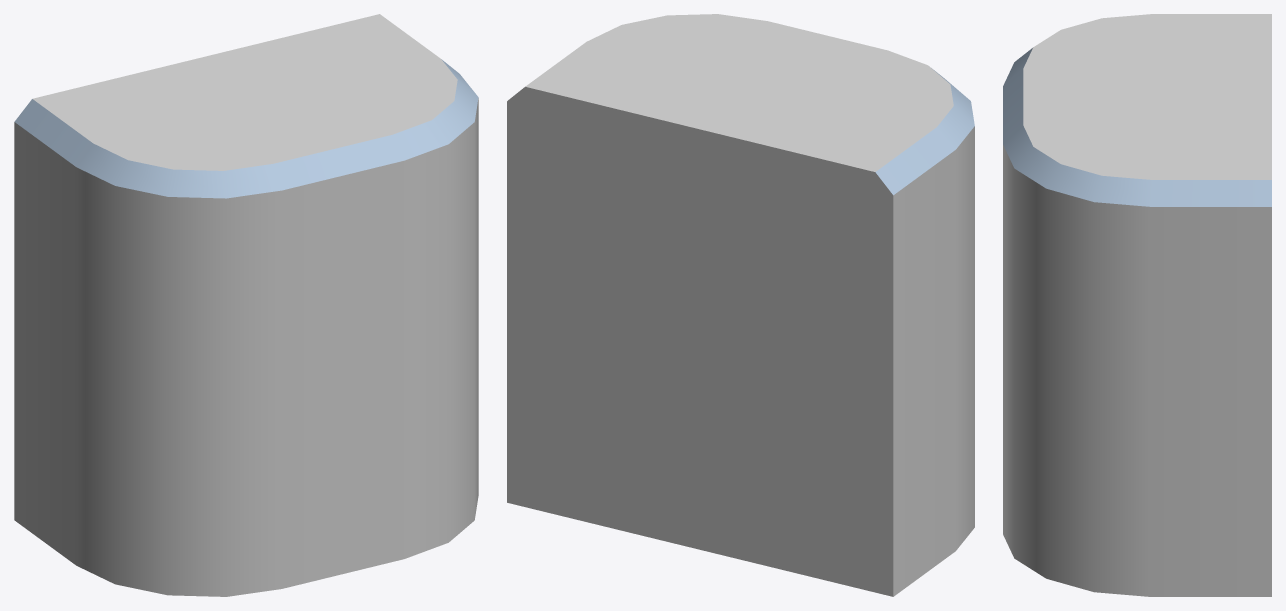
Rendered from Path04.fbx.
The picture shows the model from 3 angles, left to right: view 1: azimuth 30°, elevation 25°; view 2: azimuth 150°, elevation 25°; view 3: azimuth 270°, elevation 25°; orthographic projection. The views are drawn at different scales.
Parts seen in each view (by area): view 1: Path_04; view 2: Path_04; view 3: Path_04.
Boxes of the visible parts, bbox=[...] form: Path_04: bbox=[14, 14, 478, 596]; Path_04: bbox=[507, 14, 974, 596]; Path_04: bbox=[1003, 14, 1271, 596].
Bounding box in the file's own units: 300 × 312 × 186.
